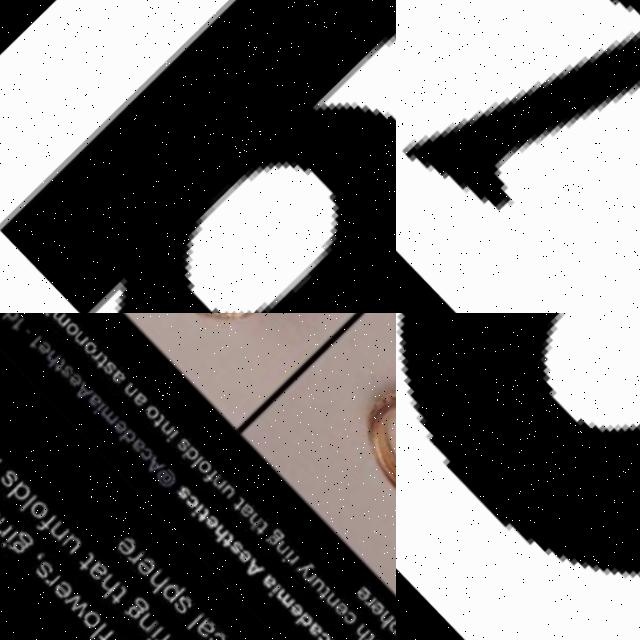1: (11, 318, 28, 335), (29, 336, 44, 351)
A: (71, 383, 96, 409), (243, 563, 268, 588), (87, 563, 111, 588), (145, 459, 166, 482), (260, 578, 280, 599), (195, 623, 218, 640), (130, 441, 149, 460), (86, 394, 105, 413), (110, 372, 128, 390), (240, 509, 257, 527), (132, 395, 149, 413), (307, 627, 326, 640)
C: (184, 497, 204, 518), (343, 617, 361, 637), (139, 450, 156, 468), (207, 635, 230, 640)
D: (7, 480, 34, 509), (116, 430, 139, 454), (296, 618, 317, 640), (181, 451, 201, 471), (0, 313, 22, 329)
E: (116, 538, 140, 563), (53, 582, 76, 606), (136, 560, 159, 583), (288, 607, 308, 628), (111, 420, 131, 441), (370, 609, 389, 629), (357, 594, 375, 614), (237, 553, 255, 572), (204, 518, 222, 537), (36, 342, 54, 361), (334, 609, 352, 627), (68, 374, 85, 392)
F: (35, 513, 61, 539), (203, 473, 221, 491), (93, 629, 118, 640)
G: (0, 0, 396, 313), (124, 597, 153, 628), (8, 533, 36, 562), (265, 533, 288, 556)
H: (95, 575, 122, 604), (144, 573, 170, 601), (209, 528, 232, 552), (245, 517, 265, 537), (43, 351, 62, 371), (377, 619, 396, 639), (353, 631, 373, 640)
I: (0, 531, 20, 551), (268, 590, 284, 605), (192, 509, 207, 524), (93, 404, 108, 419), (282, 556, 297, 571), (145, 629, 165, 640), (166, 435, 178, 448), (45, 313, 57, 318)
L: (186, 617, 207, 638), (19, 495, 38, 515), (89, 624, 110, 640), (190, 459, 207, 477), (0, 518, 7, 536)
M: (275, 593, 298, 618), (100, 408, 121, 430), (51, 313, 72, 332)
N: (137, 615, 161, 640), (49, 522, 70, 545), (72, 332, 91, 352), (325, 599, 343, 618), (275, 546, 293, 565), (211, 479, 229, 498), (123, 385, 140, 404), (160, 424, 177, 442)
O: (396, 313, 640, 640), (27, 499, 52, 526), (81, 612, 105, 637), (81, 342, 100, 361), (197, 463, 215, 483), (144, 407, 162, 427), (63, 322, 81, 341)
P: (160, 583, 186, 610), (388, 626, 396, 640)
R: (44, 572, 64, 593), (128, 551, 146, 571), (364, 602, 380, 619), (0, 522, 14, 540), (90, 351, 104, 366), (305, 578, 318, 591), (288, 560, 301, 573), (155, 634, 173, 640)
S: (36, 562, 58, 584), (174, 599, 195, 622), (0, 469, 20, 491), (101, 363, 119, 382), (176, 441, 193, 460), (230, 546, 247, 564), (176, 489, 193, 507), (60, 367, 76, 383)
T: (76, 554, 99, 578), (110, 589, 131, 612), (220, 537, 239, 558), (196, 512, 214, 531), (317, 592, 335, 610), (51, 360, 68, 378), (254, 526, 271, 544), (232, 502, 249, 520), (93, 357, 110, 374), (152, 419, 168, 435)
U: (61, 536, 85, 561), (310, 582, 329, 603), (221, 489, 238, 507)
W: (67, 594, 94, 624)
Y: (297, 566, 318, 588)
